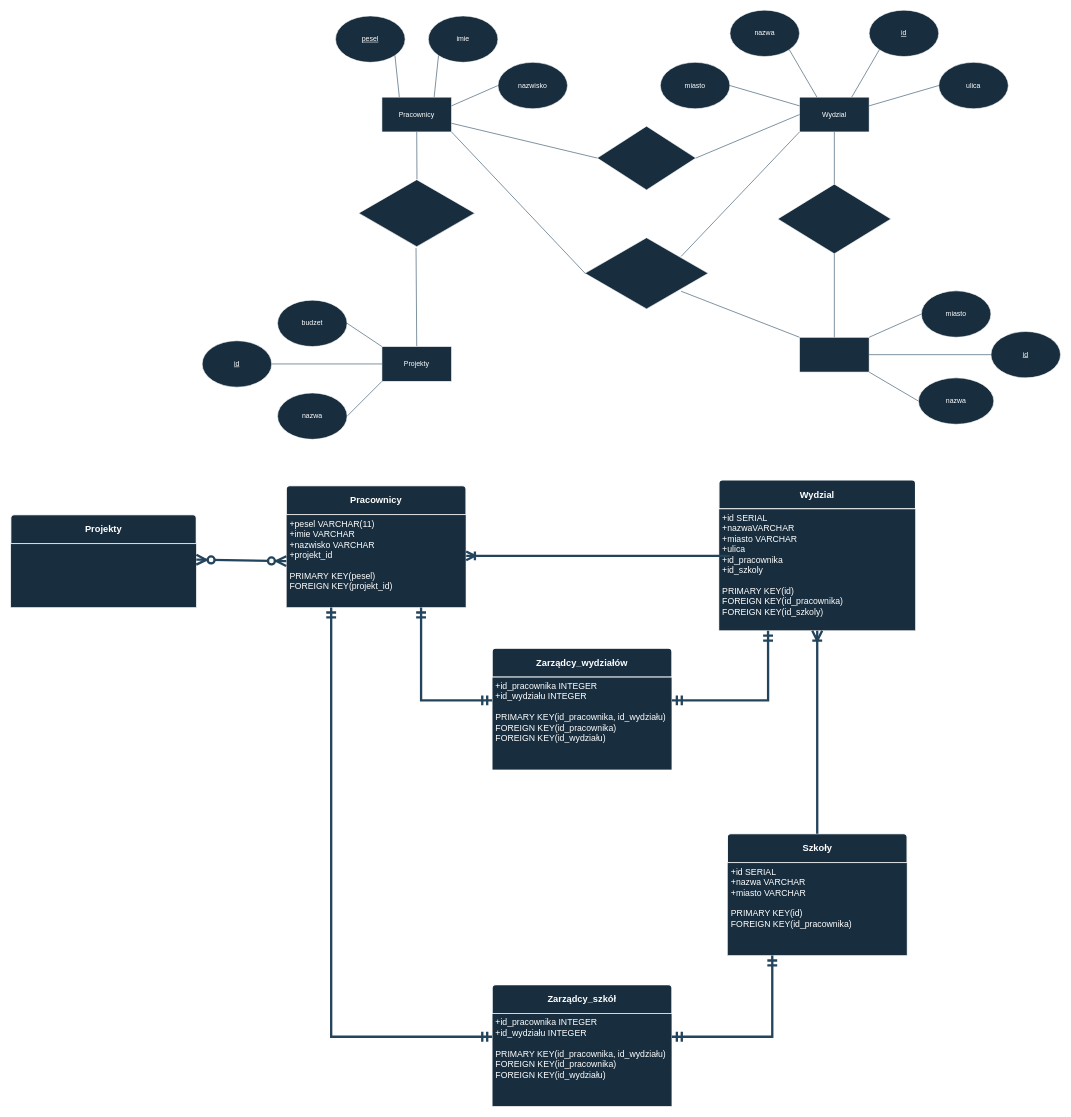
Some shapes in this 1071 by 1117 pixel diagram are drawn without their labels. The shapes that lost their labels are listed below. From the top down, each one's centre as x and y in pixels, then its label:
At (646,158): "Pracuje_w".
At (416,213): "Uczestnictwo_w_pr ojekcie".
At (834,219): "Wydzial_znajduje_sie_w".
At (646,273): "Pracownik_zarzadza".
At (834,354): "Szkoly".
At (103,575): "+id SERIAL +nazwa VARCHAR +budzet DECIMAL PRIMARY KEY(id)".
